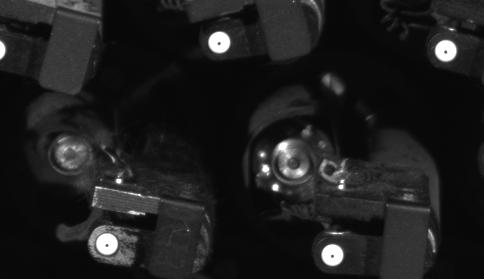fiber: (91, 229, 126, 259), (429, 34, 461, 66), (317, 241, 350, 270), (203, 29, 235, 58)
